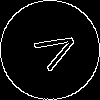V: (25, 25, 81, 77)
